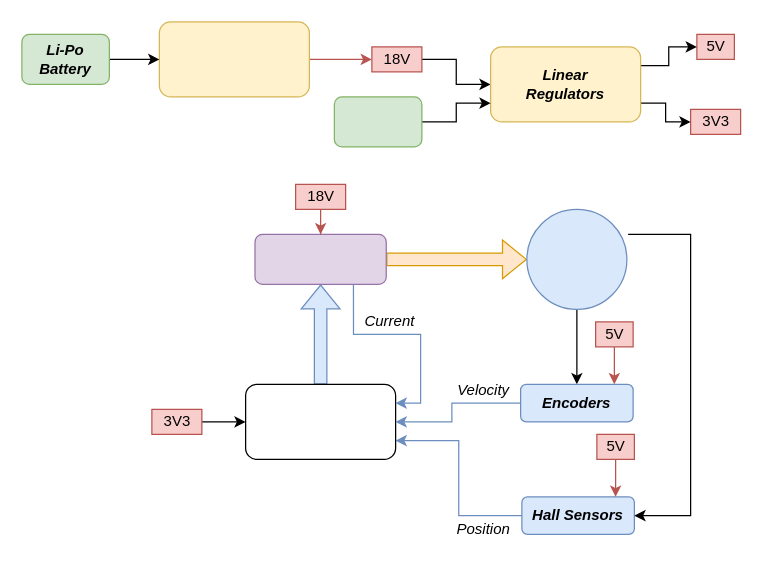
Some shapes in this 763 by 564 pixel diagram are drawn without their labels. Here are the shapes that lost their labels. From the top down, the centre of each, then its label:
pixel 233 59: Buck-Boost Converter
pixel 377 121: 5V_EXT
pixel 320 258: Motor Drivers
pixel 576 258: Motors
pixel 320 421: STM32F101VCT6
